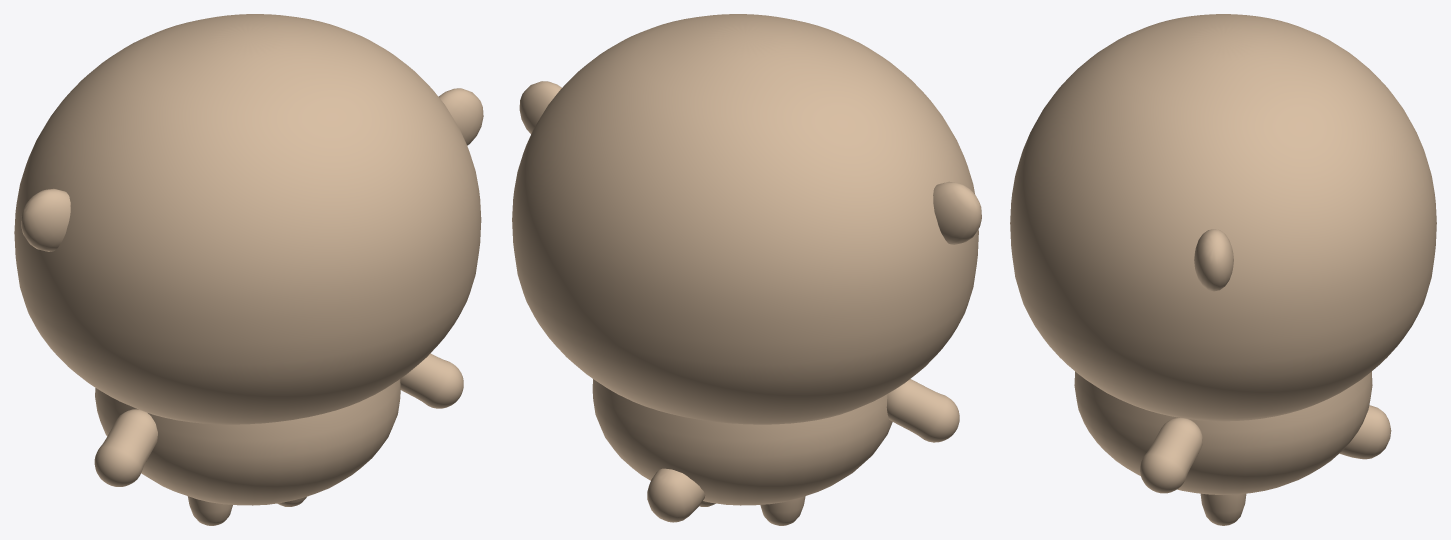
The model's file is kurimanju.glb.
The picture shows the model from 3 angles, left to right: view 1: azimuth 30°, elevation 25°; view 2: azimuth 150°, elevation 25°; view 3: azimuth 270°, elevation 25°; orthographic projection. The views are drawn at different scales.
Parts seen in each view (by area): view 1: kurimanju; view 2: kurimanju; view 3: kurimanju.
Part boxes in pixels (left/top/right/bottom): kurimanju: left=14, top=14, right=483, bottom=525; kurimanju: left=512, top=14, right=981, bottom=525; kurimanju: left=1010, top=14, right=1436, bottom=525.
Bounding box in the file's own units: 0.8771 × 0.8728 × 0.7256.
